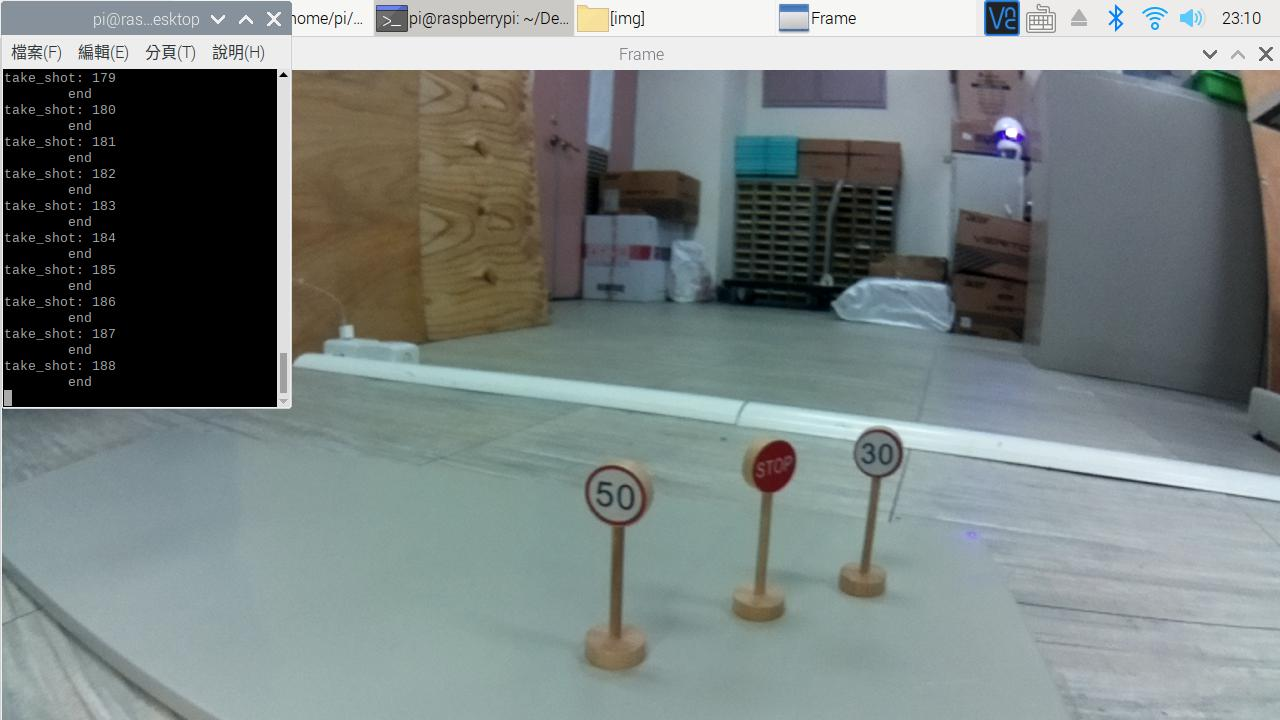Speed30: (839, 421, 918, 490)
Speed50: (570, 455, 665, 540)
Stop: (739, 427, 817, 511)
